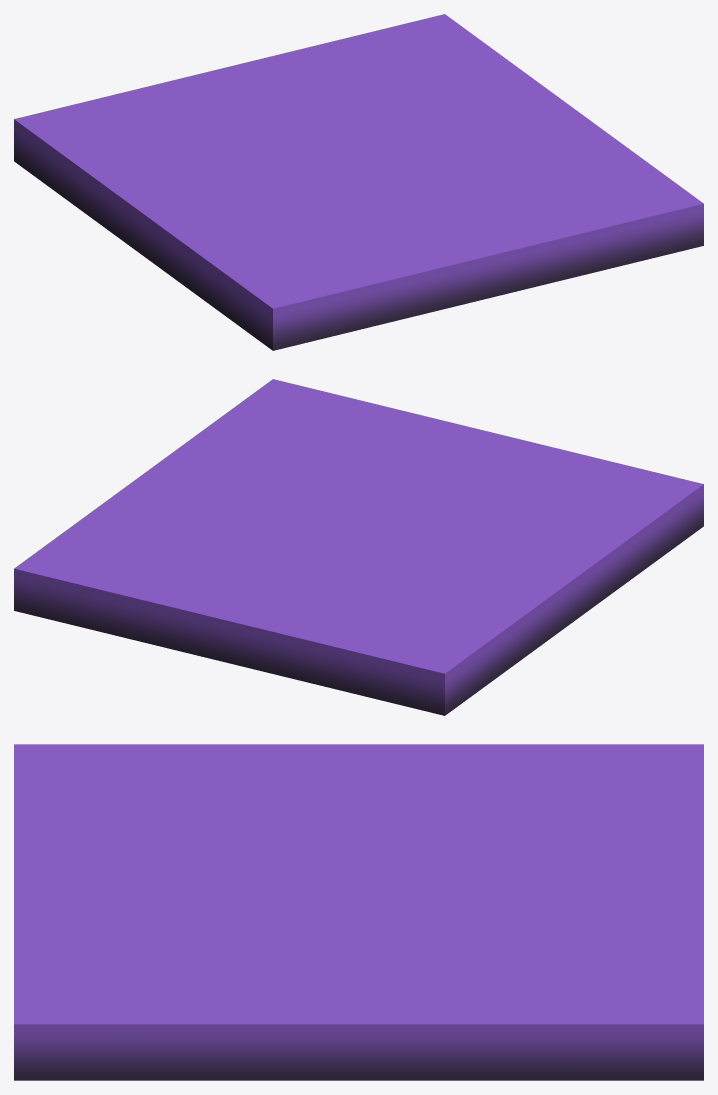
File: Plat01.022.glb
3 renders of one model, top to bottom at view 1: azimuth 30°, elevation 25°; view 2: azimuth 150°, elevation 25°; view 3: azimuth 270°, elevation 25°, orthographic. The views are drawn at different scales.
Visible parts, largest first — view 1: Plat01.022; view 2: Plat01.022; view 3: Plat01.022.
Boxes of the visible parts, left/top/right/bottom form: Plat01.022: left=14, top=14, right=703, bottom=350; Plat01.022: left=14, top=379, right=703, bottom=715; Plat01.022: left=14, top=744, right=703, bottom=1080.
Size of what is drawn, in the model's own units: 5.68 by 0.5313 by 5.92.
Materials: 1 (1 with a texture image).
